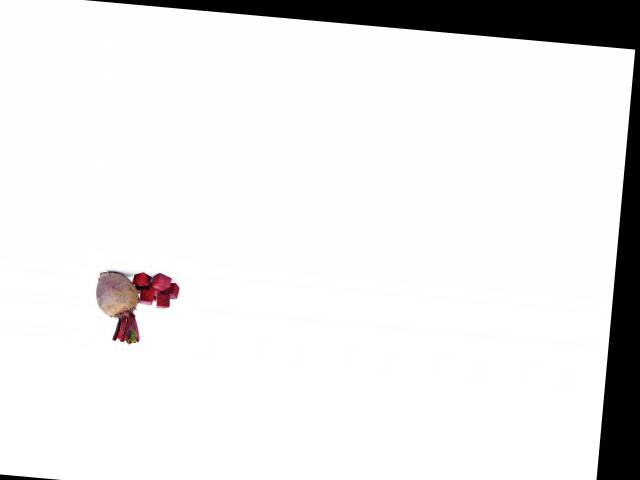beet: (92, 269, 145, 343)
